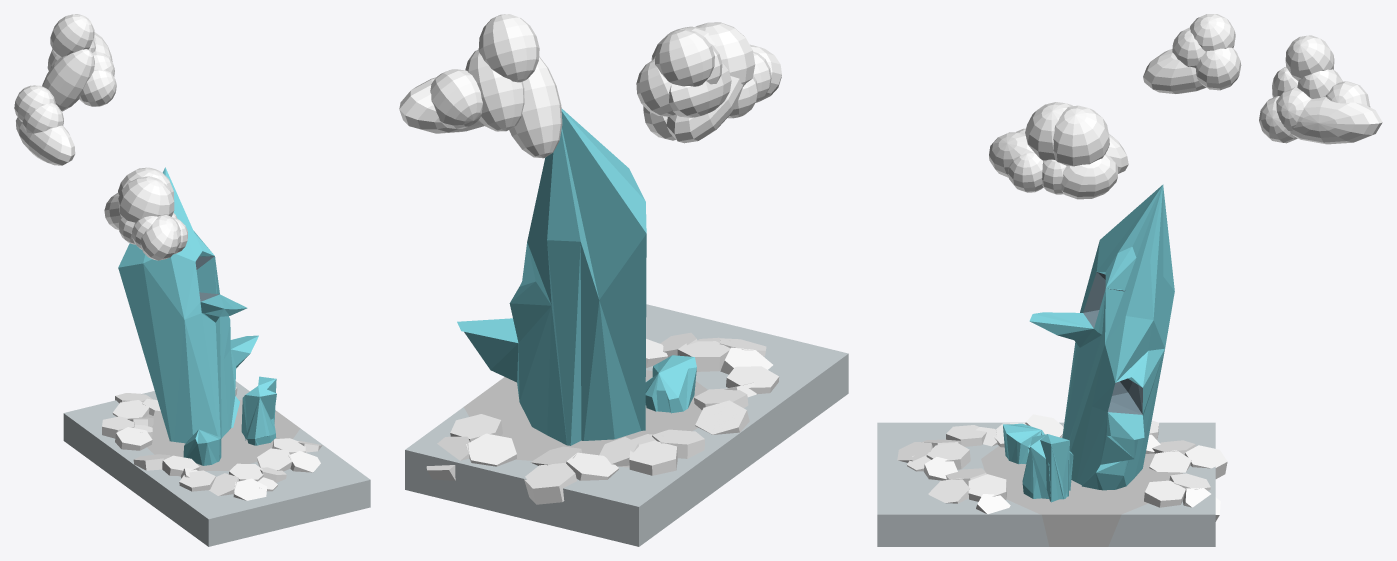
3 renders of one model, left to right at view 1: azimuth 30°, elevation 25°; view 2: azimuth 150°, elevation 25°; view 3: azimuth 270°, elevation 25°, orthographic. The views are drawn at different scales.
Parts seen in each view (by area): view 1: mesh_2036525179, mesh_562843304, mesh_792463140, mesh_322589756, mesh_1471117817, mesh_1686460572, mesh_747547581, mesh_1148363430, mesh_2008228228, mesh_1023005703, mesh_262496710, mesh_378161822 (+12 smaller); view 2: mesh_562843304, mesh_2036525179, mesh_322589756, mesh_747547581, mesh_378161822, mesh_1651099213, mesh_11611409, mesh_2008228228, mesh_1686460572, mesh_1471117817, mesh_475365725, mesh_192739709 (+19 smaller); view 3: mesh_2036525179, mesh_562843304, mesh_192739709, mesh_792463140, mesh_726958513, mesh_499583729, mesh_1686460572, mesh_747547581, mesh_366660078, mesh_1471117817, mesh_378161822, mesh_1148363430 (+15 smaller).
Part boxes in pixels (x1,y1,x2,y2): mesh_2036525179: (63, 381, 370, 546); mesh_562843304: (118, 167, 258, 443); mesh_792463140: (241, 376, 276, 445); mesh_322589756: (42, 49, 94, 111); mesh_1471117817: (118, 176, 174, 222); mesh_1686460572: (16, 117, 75, 165); mesh_747547581: (50, 14, 94, 57); mesh_1148363430: (140, 215, 180, 260); mesh_2008228228: (183, 429, 221, 465); mesh_1023005703: (79, 69, 116, 106); mesh_262496710: (22, 103, 63, 133); mesh_378161822: (14, 85, 55, 121); mesh_562843304: (457, 108, 646, 445); mesh_2036525179: (405, 304, 848, 546); mesh_322589756: (509, 56, 562, 158); mesh_747547581: (478, 14, 539, 82); mesh_378161822: (655, 29, 714, 86); mesh_1651099213: (465, 49, 524, 131); mesh_11611409: (430, 69, 482, 128); mesh_2008228228: (645, 355, 696, 413); mesh_1686460572: (669, 62, 731, 117); mesh_1471117817: (695, 22, 755, 86); mesh_475365725: (666, 76, 742, 143); mesh_192739709: (399, 77, 484, 133); mesh_2036525179: (877, 422, 1215, 546); mesh_562843304: (1029, 184, 1174, 490); mesh_192739709: (1290, 96, 1382, 144); mesh_792463140: (1022, 434, 1073, 502); mesh_726958513: (1053, 105, 1109, 166); mesh_499583729: (1061, 154, 1117, 199); mesh_1686460572: (1143, 48, 1206, 93); mesh_747547581: (1285, 35, 1334, 80); mesh_366660078: (1195, 47, 1241, 90); mesh_1471117817: (1025, 102, 1073, 160); mesh_378161822: (1190, 14, 1235, 51); mesh_1148363430: (989, 132, 1034, 177).
Bounding box in the file's own units: 63.57 × 111 × 114.
